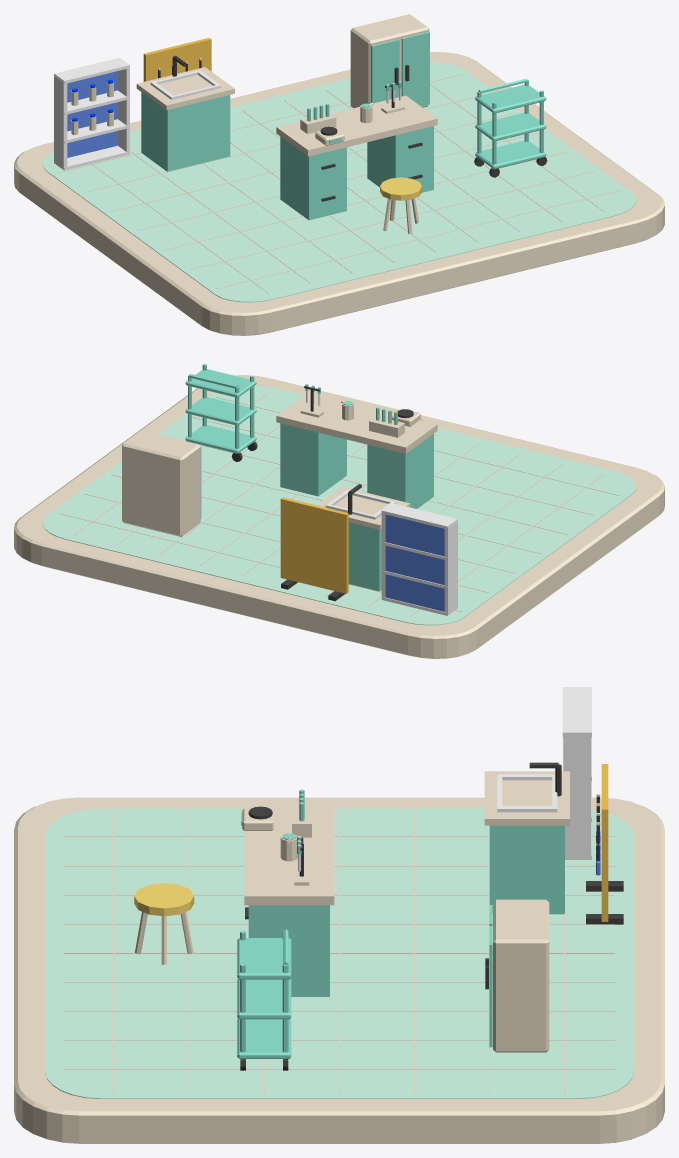
3 views of the same model, one above another, from view 1: azimuth 30°, elevation 25°; view 2: azimuth 150°, elevation 25°; view 3: azimuth 270°, elevation 25° (orthographic). The views are drawn at different scales.
Parts seen in each view (by area): view 1: COM-02 Floor Surface, COM-01 Rounded Base Direct, Cabinet, Storage module, Worktop, Storage module.001, Equipment case, Cabinet back, Counter, Door.001, Panel, Door (+13 smaller); view 2: COM-02 Floor Surface, COM-01 Rounded Base Direct, Equipment case, Panel, Cabinet back, Worktop, Storage module.001, Storage module, Cabinet, Counter, Clean supply cabinet side, Tray.001 (+4 smaller); view 3: COM-02 Floor Surface, COM-01 Rounded Base Direct, Equipment case, Worktop, Cabinet, Storage module.001, Counter, Clean supply cabinet side.001, Tray.002, Tray.001, Tray, Seat (+9 smaller).
Part boxes in pixels (x1,y1,x2,y2): COM-02 Floor Surface: (42,62,636,302); COM-01 Rounded Base Direct: (14,52,664,335); Cabinet: (141,92,230,171); Storage module: (280,136,346,220); Worktop: (276,95,437,156); Storage module.001: (367,126,433,192); Equipment case: (350,14,429,108); Cabinet back: (67,71,117,157); Counter: (136,67,234,110); Door.001: (401,32,429,106); Panel: (143,37,211,81); Door: (371,39,399,103); COM-02 Floor Surface: (42,385,636,625); COM-01 Rounded Base Direct: (14,375,664,658); Equipment case: (122,430,200,536); Panel: (280,497,348,593); Cabinet back: (385,514,444,611); Worktop: (276,393,437,453); Storage module.001: (280,423,346,496); Storage module: (367,434,433,508); Cabinet: (348,522,381,591); Counter: (316,486,410,529); Clean supply cabinet side: (444,520,457,614); Tray.001: (185,397,256,425); COM-02 Floor Surface: (45,808,633,1098); COM-01 Rounded Base Direct: (14,797,664,1143); Equipment case: (493,899,549,1052); Worktop: (244,806,334,905); Cabinet: (489,825,564,914); Storage module.001: (248,905,329,996); Counter: (484,771,569,825); Clean supply cabinet side.001: (563,735,591,859); Tray.002: (237,938,291,979); Tray.001: (237,978,291,1019); Tray: (237,1018,291,1058); Seat: (134,883,194,916).
Bounding box in the file's own units: 6 × 1.54 × 5.2.
1 material, 1 textured.
